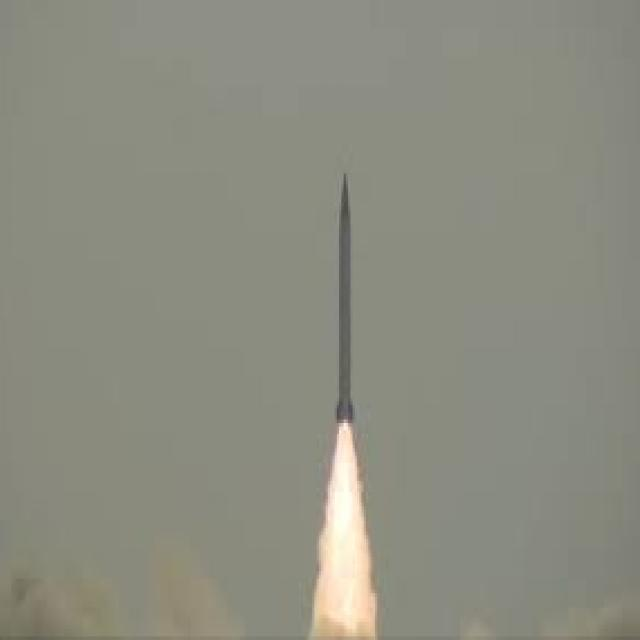missile: (329, 172, 356, 421)
